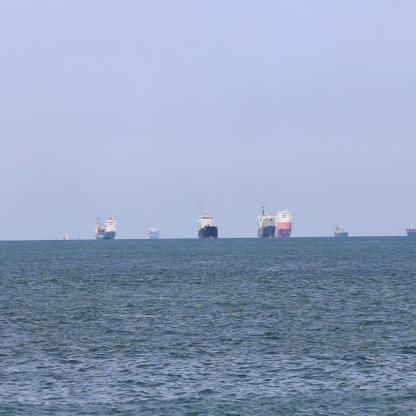Container Ship: (257, 200, 278, 238), (197, 204, 219, 240), (93, 213, 117, 240), (275, 203, 292, 238), (332, 219, 349, 237), (406, 219, 416, 236), (148, 226, 160, 240), (63, 227, 71, 239), (79, 229, 84, 240)
